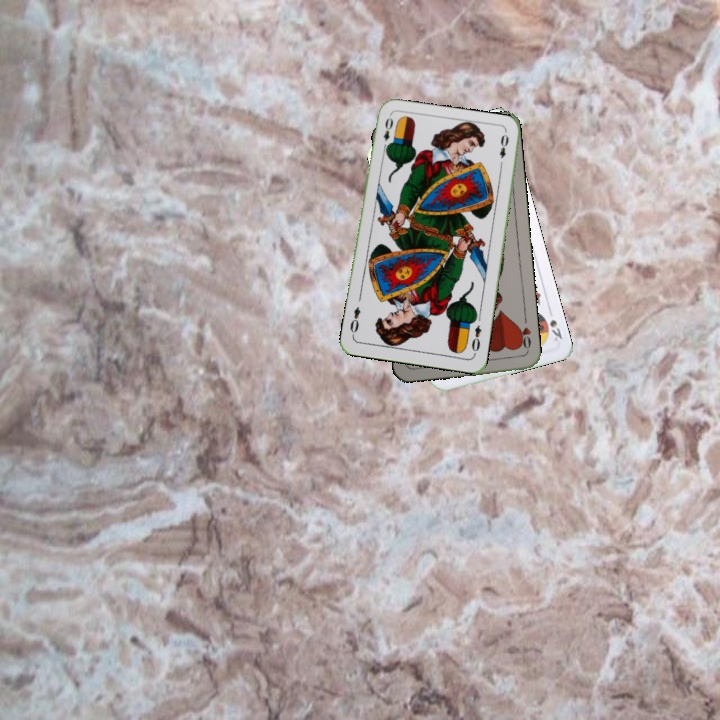EO: (379, 113, 396, 153), (467, 321, 484, 354)
HO: (514, 314, 534, 354)
SK: (544, 305, 565, 344)
